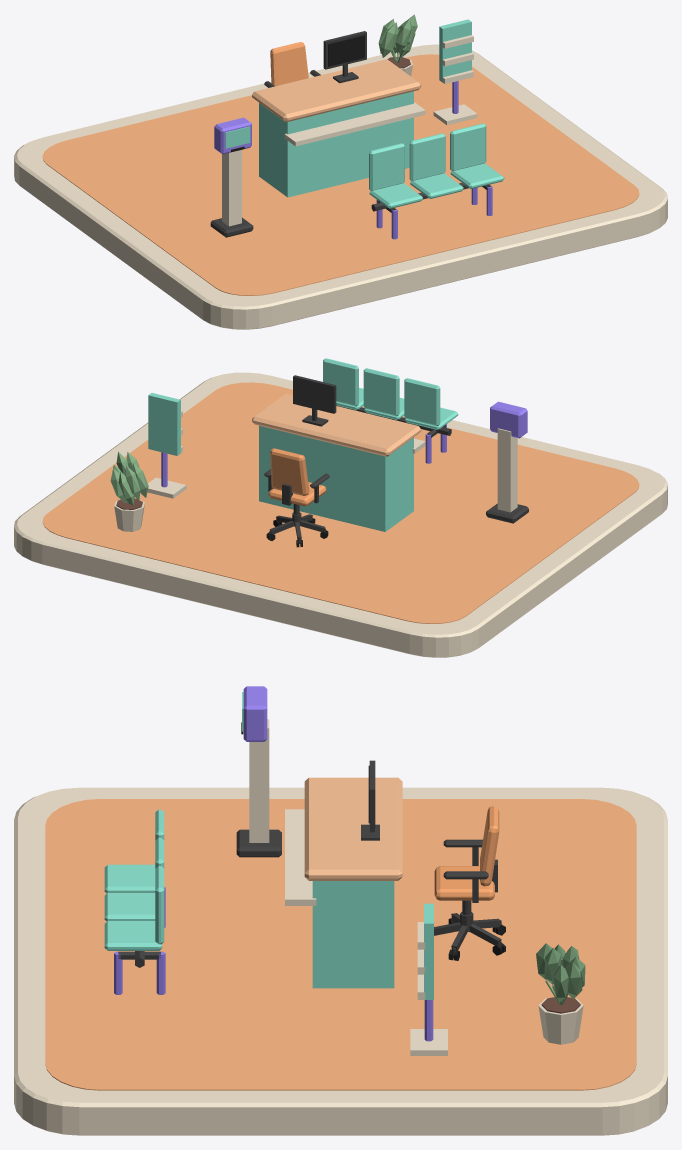
3 renders of one model, top to bottom at view 1: azimuth 30°, elevation 25°; view 2: azimuth 150°, elevation 25°; view 3: azimuth 270°, elevation 25°, orthographic. The views are drawn at different scales.
Parts seen in each view (by area): view 1: COM-02 Floor Surface, COM-01 Rounded Base Direct, Counter body, Countertop, Visitor shelf, Frame, Back.001, Back.002, COM-04_Chair_blender_direct, Back, Pedestal, Pot (+7 smaller); view 2: COM-02 Floor Surface, COM-01 Rounded Base Direct, Counter body, Countertop, COM-04_Chair_blender_direct, Pot, Pedestal, Frame, Back.001, Back, Back.002, Display housing (+5 smaller); view 3: COM-02 Floor Surface, COM-01 Rounded Base Direct, Countertop, Counter body, COM-04_Chair_blender_direct, Pot, Pedestal, Visitor shelf, Seat.002, Seat, Seat.001, Display housing (+4 smaller).
Boxes of the visible parts, box(x1,y1,x2,y2) form: COM-02 Floor Surface: box(42, 54, 639, 295); COM-01 Rounded Base Direct: box(14, 44, 667, 329); Counter body: box(259, 91, 413, 197); Countertop: box(252, 59, 421, 122); Visitor shelf: box(284, 102, 425, 146); Frame: box(323, 31, 366, 83); Back.001: box(409, 133, 445, 180); Back.002: box(450, 123, 486, 170); COM-04_Chair_blender_direct: box(264, 42, 320, 87); Back: box(369, 143, 404, 190); Pedestal: box(222, 150, 241, 226); Pot: box(378, 14, 417, 76); COM-02 Floor Surface: box(42, 382, 639, 623); COM-01 Rounded Base Direct: box(14, 372, 667, 657); Counter body: box(259, 425, 413, 531); Countertop: box(252, 393, 421, 456); COM-04_Chair_blender_direct: box(264, 448, 329, 547); Pot: box(110, 451, 148, 531); Pedestal: box(497, 428, 517, 512); Frame: box(293, 375, 336, 426); Back.001: box(363, 368, 399, 416); Back: box(404, 378, 440, 426); Back.002: box(323, 358, 358, 406); Display housing: box(490, 401, 527, 438); COM-02 Floor Surface: box(45, 799, 636, 1090); COM-01 Rounded Base Direct: box(14, 787, 667, 1135); Countertop: box(304, 777, 402, 880); Counter body: box(312, 881, 394, 988); COM-04_Chair_blender_direct: box(434, 806, 505, 960); Pot: box(536, 943, 585, 1044); Pedestal: box(249, 719, 269, 842); Visitor shelf: box(285, 809, 316, 905); Seat.002: box(104, 921, 162, 950); Seat: box(104, 864, 155, 893); Seat.001: box(104, 893, 155, 921); Display housing: box(243, 686, 267, 741).
Size of the model in its own units: 6 by 1.87 by 5.2.
1 material, 1 textured.
